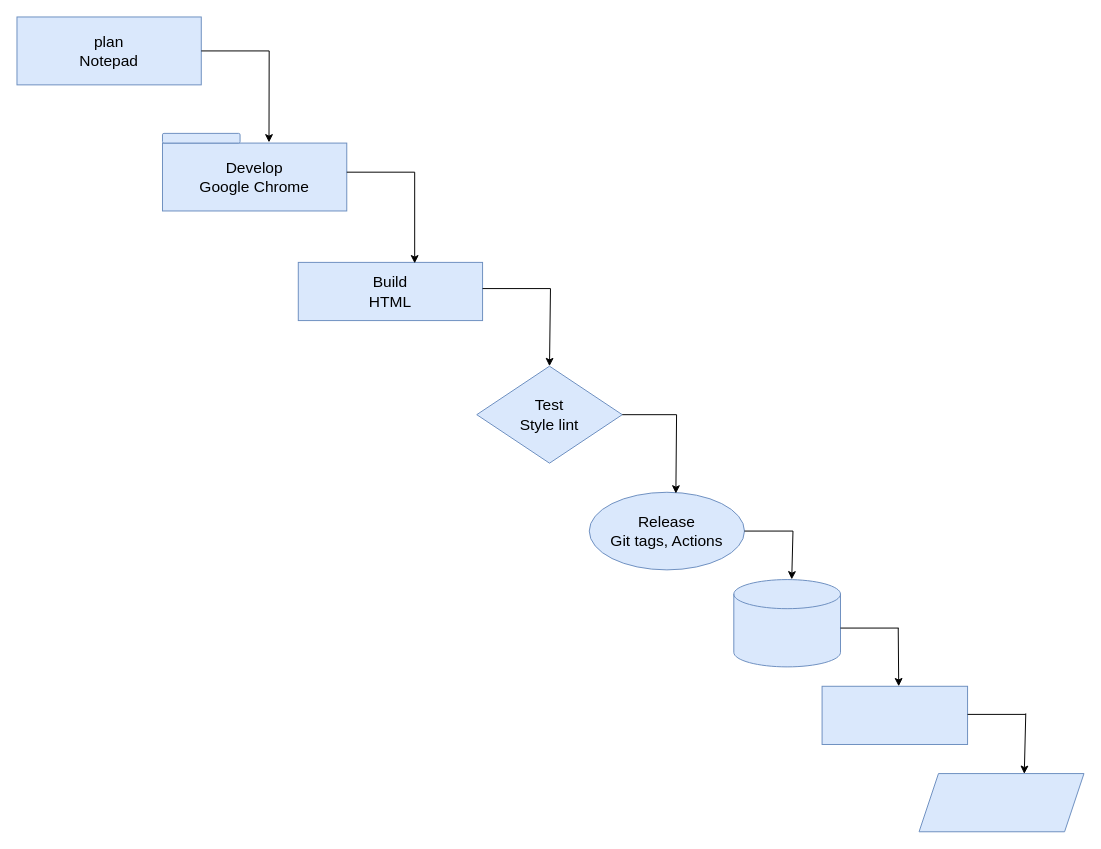
Some shapes in this 1101 by 849 pixel diagram are drawn without their labels. The centre of each missing label's shape, as x and y in pixels:
Deploy GitHub pages: pixel 787 623
Operate Analytics: pixel 894 714
parallelogram Hotjar: pixel 1001 802
